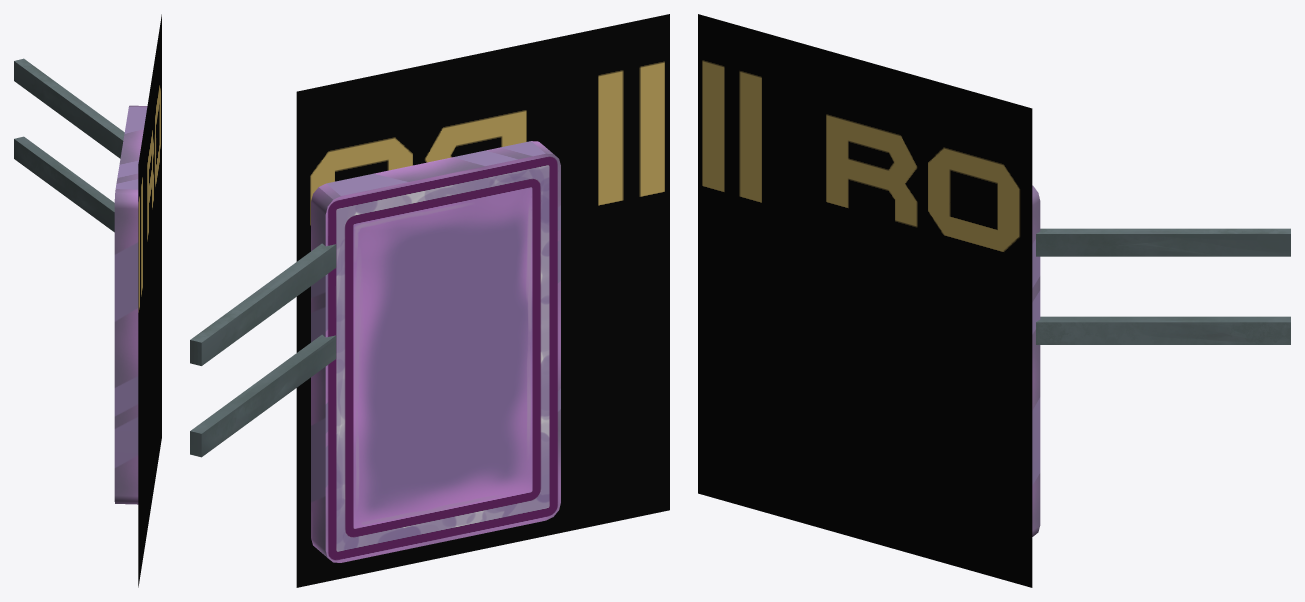
The model's file is Billboard.fbx.
3 renders of one model, left to right at view 1: azimuth 30°, elevation 25°; view 2: azimuth 150°, elevation 25°; view 3: azimuth 270°, elevation 25°, orthographic. The views are drawn at different scales.
Parts seen in each view (by area): view 1: pPlane32, pCube59, pCube295; view 2: pCube59, pPlane32, pCube295; view 3: pPlane32, pCube295, pCube59.
Boxes of the visible parts, x1,y1,x2,y2 form: pPlane32: [138, 14, 161, 587]; pCube59: [114, 105, 147, 504]; pCube295: [14, 58, 124, 232]; pCube59: [311, 141, 560, 562]; pPlane32: [296, 14, 669, 587]; pCube295: [190, 243, 336, 457]; pPlane32: [698, 14, 1032, 587]; pCube295: [1036, 228, 1290, 344]; pCube59: [1032, 185, 1040, 536].
Bounding box in the file's own units: 71.06 × 168 × 188.
